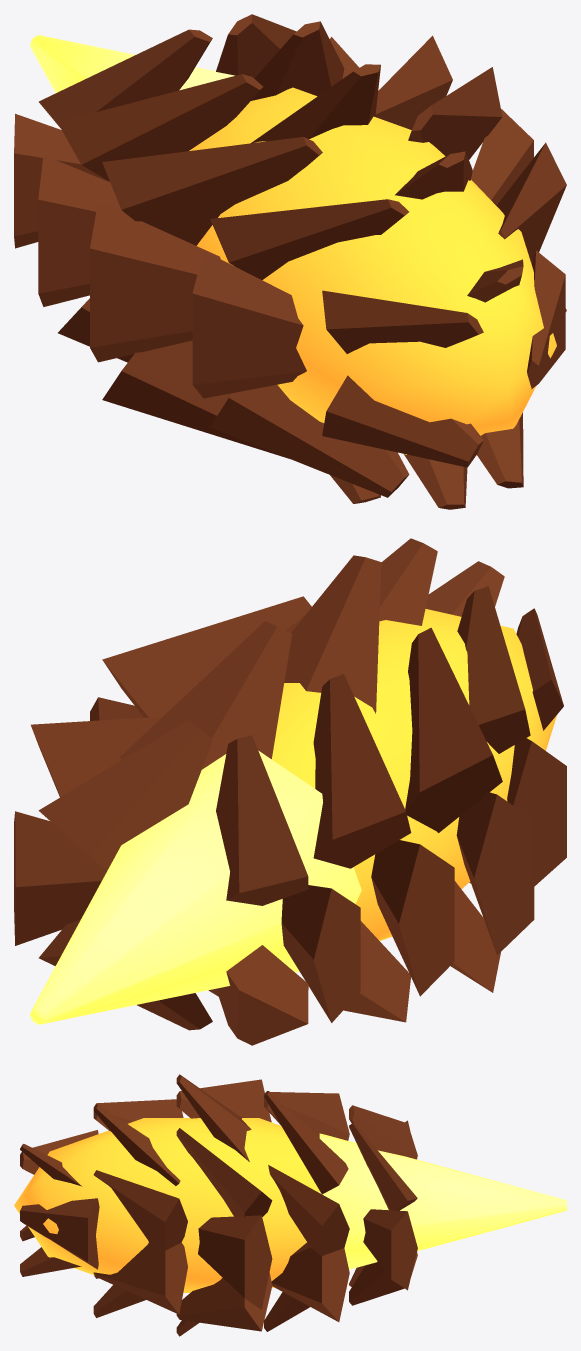
File: skill_pinecone_meteor.glb
3 renders of one model, top to bottom at view 1: azimuth 30°, elevation 25°; view 2: azimuth 150°, elevation 25°; view 3: azimuth 270°, elevation 25°, orthographic. The views are drawn at different scales.
Visible parts, largest first — view 1: MagmaCore, Scale_2_4, Scale_2_3, Scale_1_3, Scale_3_2, Scale_1_4, Scale_1_2, Scale_3_3, Scale_0_3, Scale_4_2, Scale_2_5, Scale_0_2 (+15 smaller); view 2: FlameTail, MagmaCore, Scale_3_2, Scale_2_3, Scale_4_1, Scale_3_1, Scale_4_2, Scale_2_2, Scale_3_3, Scale_2_4, Scale_2_1, Scale_4_0 (+12 smaller); view 3: MagmaCore, FlameTail, Scale_2_0, Scale_3_6, Scale_1_6, Scale_3_0, Scale_1_0, Scale_0_0, Scale_2_7, Scale_4_0, Scale_2_1, Scale_3_1 (+13 smaller).
Boxes of the visible parts, x1=… form: MagmaCore: x1=189, y1=87, x2=556, y2=454; Scale_2_4: x1=90, y1=201, x2=220, y2=362; Scale_2_3: x1=102, y1=137, x2=322, y2=245; Scale_1_3: x1=192, y1=251, x2=306, y2=398; Scale_3_2: x1=57, y1=74, x2=263, y2=181; Scale_1_4: x1=210, y1=384, x2=409, y2=497; Scale_1_2: x1=210, y1=199, x2=408, y2=279; Scale_3_3: x1=38, y1=155, x2=126, y2=306; Scale_0_3: x1=322, y1=375, x2=483, y2=467; Scale_4_2: x1=39, y1=29, x2=212, y2=128; Scale_2_5: x1=102, y1=340, x2=288, y2=458; Scale_0_2: x1=322, y1=290, x2=483, y2=353; FlameTail: x1=30, y1=750, x2=361, y2=1024; MagmaCore: x1=271, y1=609, x2=556, y2=940; Scale_3_2: x1=313, y1=674, x2=411, y2=868; Scale_2_3: x1=405, y1=627, x2=502, y2=832; Scale_4_1: x1=38, y1=720, x2=212, y2=870; Scale_3_1: x1=119, y1=621, x2=291, y2=769; Scale_4_2: x1=216, y1=735, x2=308, y2=905; Scale_2_2: x1=284, y1=555, x2=381, y2=713; Scale_3_3: x1=371, y1=840, x2=454, y2=996; Scale_2_4: x1=456, y1=791, x2=534, y2=955; Scale_2_1: x1=102, y1=596, x2=311, y2=717; Scale_4_0: x1=14, y1=811, x2=106, y2=945; MagmaCore: x1=14, y1=1118, x2=319, y2=1292; FlameTail: x1=319, y1=1133, x2=566, y2=1269; Scale_2_0: x1=198, y1=1215, x2=272, y2=1309; Scale_3_6: x1=271, y1=1242, x2=349, y2=1321; Scale_1_6: x1=93, y1=1242, x2=187, y2=1314; Scale_3_0: x1=268, y1=1165, x2=349, y2=1255; Scale_1_0: x1=93, y1=1170, x2=187, y2=1250; Scale_0_0: x1=20, y1=1198, x2=99, y2=1269; Scale_2_7: x1=176, y1=1273, x2=272, y2=1331; Scale_4_0: x1=363, y1=1209, x2=417, y2=1290; Scale_2_1: x1=176, y1=1128, x2=272, y2=1217; Scale_3_1: x1=264, y1=1091, x2=348, y2=1194.
Size of the model in its own units: 0.5487 by 0.5171 by 1.01.
